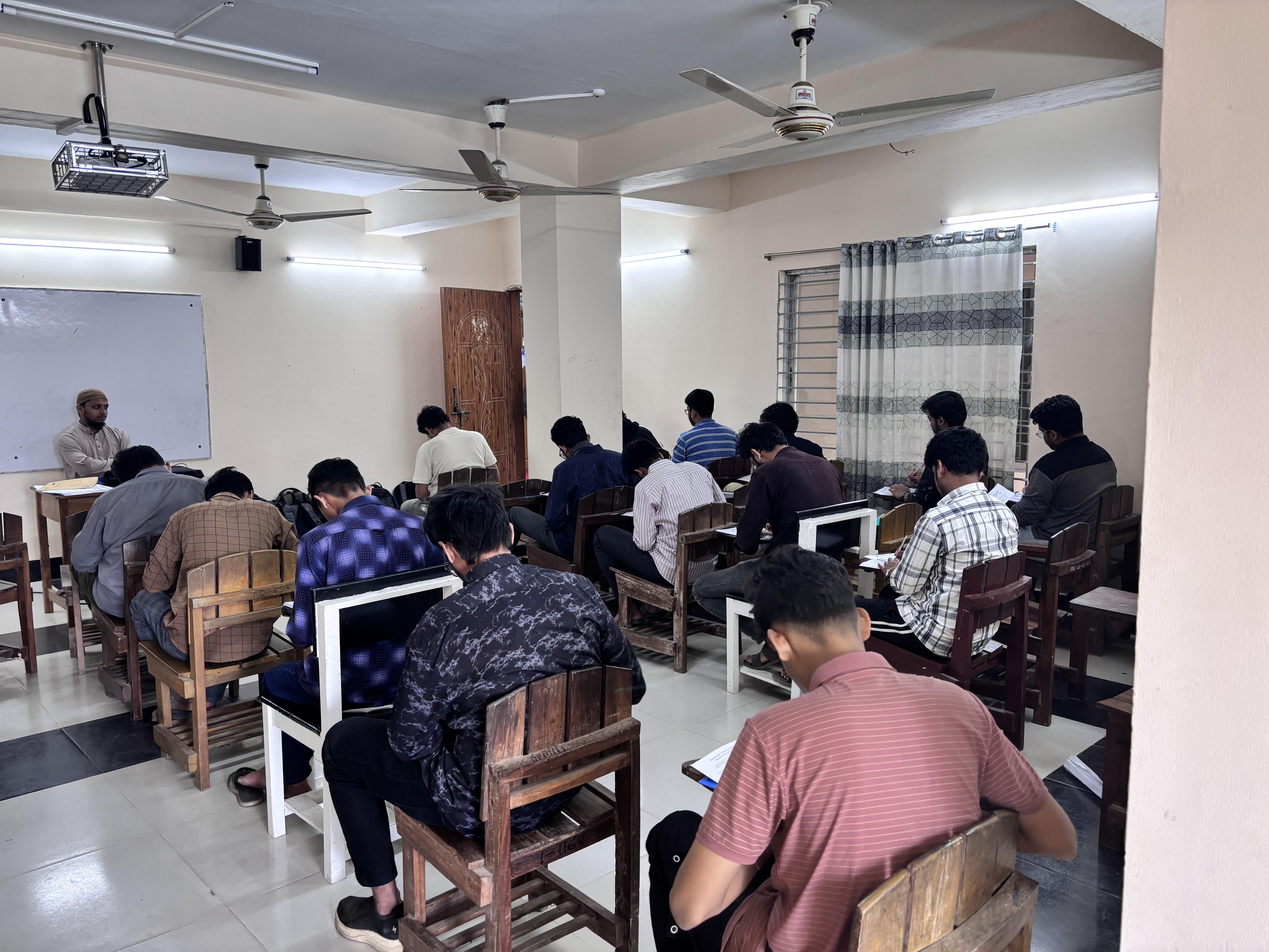invigilator: (57, 386, 140, 480)
no_cheating: (670, 543, 1083, 952), (350, 484, 643, 952), (237, 453, 444, 800), (851, 427, 1029, 676), (140, 459, 300, 728), (694, 416, 853, 617), (66, 441, 214, 634), (593, 423, 738, 601), (511, 403, 636, 550), (1012, 392, 1124, 548), (399, 403, 505, 499), (905, 383, 985, 452)
side_talking: (755, 396, 823, 446)
suspicious_moving: (672, 386, 739, 483)
